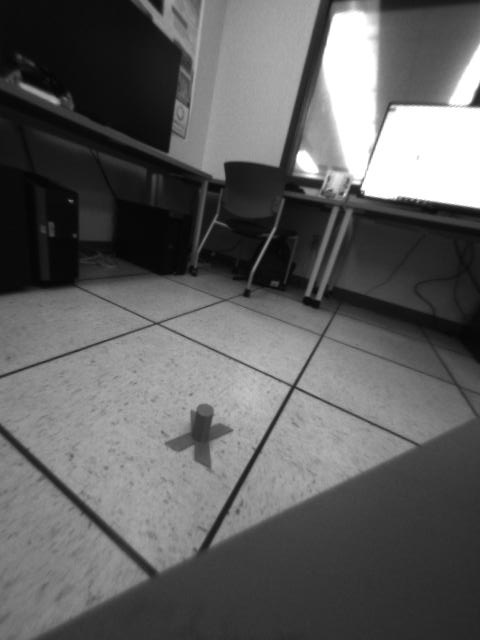X: (166, 404, 235, 470)
